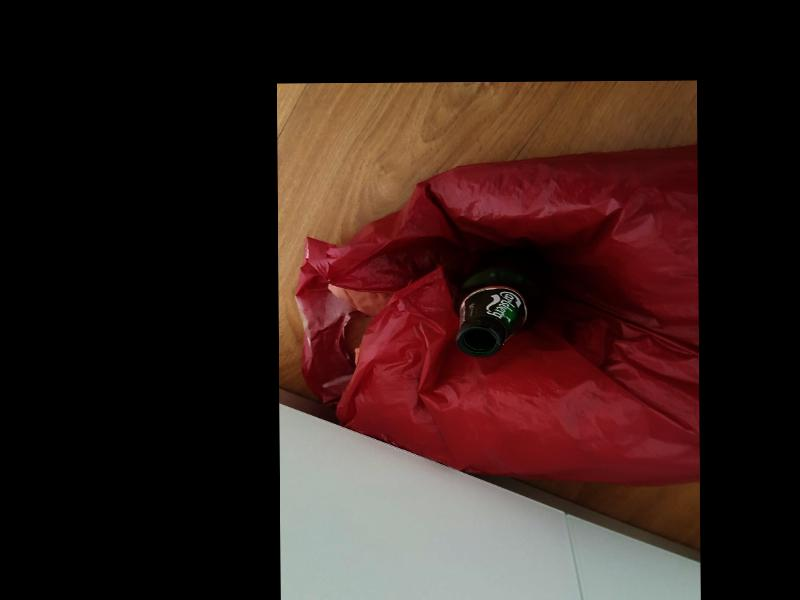Beer: (455, 246, 545, 356)
